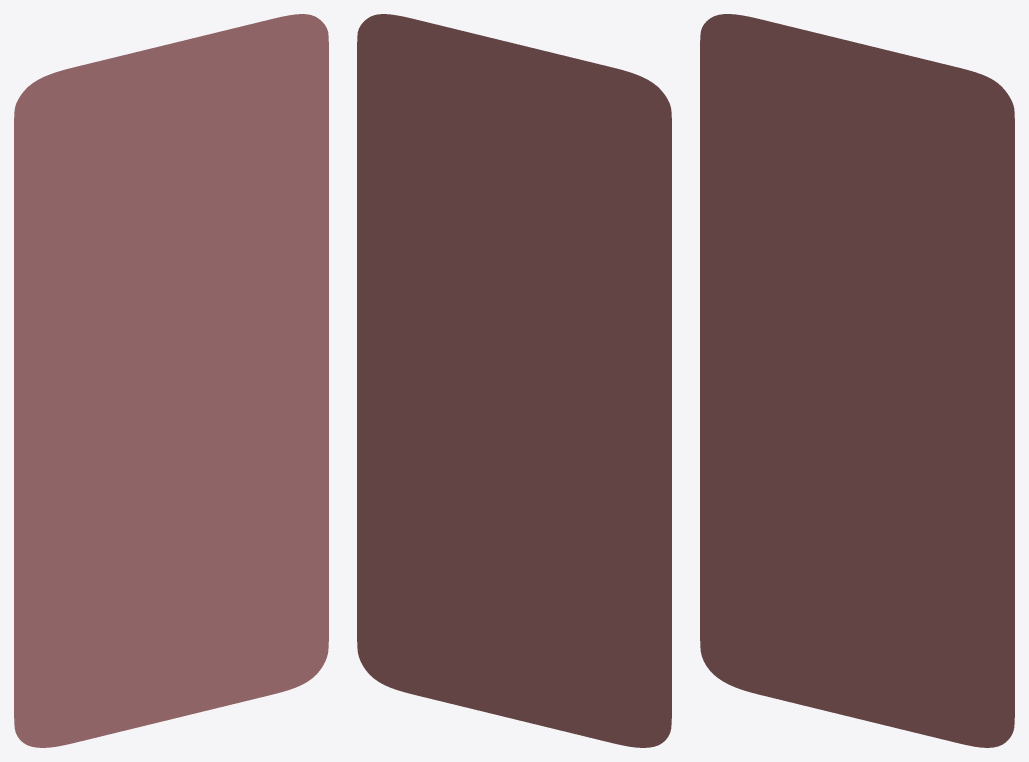
Rendered from cubeTest.glb.
3 renders of one model, left to right at view 1: azimuth 30°, elevation 25°; view 2: azimuth 150°, elevation 25°; view 3: azimuth 330°, elevation 25°, orthographic.
Visible parts, largest first — view 1: Screen; view 2: Screen; view 3: Screen.
Part boxes in pixels (x1,y1,x2,y2): Screen: [14, 14, 328, 747]; Screen: [357, 14, 671, 747]; Screen: [700, 14, 1014, 747].
Bounding box in the file's own units: 1.05 × 2.15 × 0.
